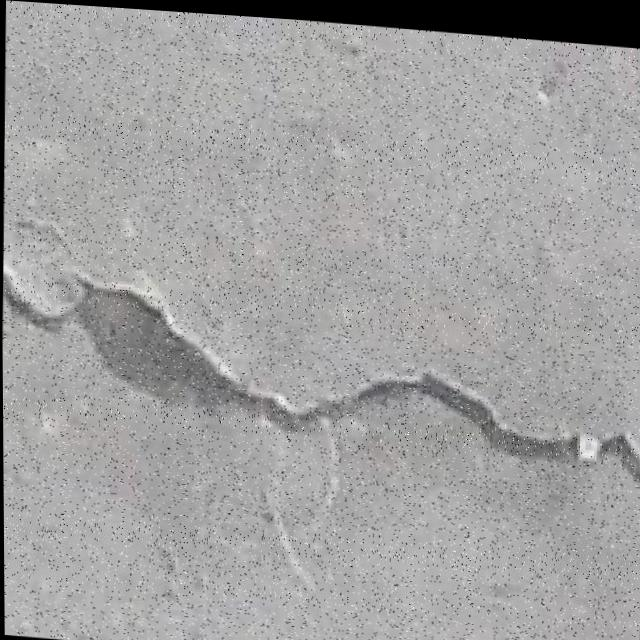Crack: (2, 243, 640, 489)
